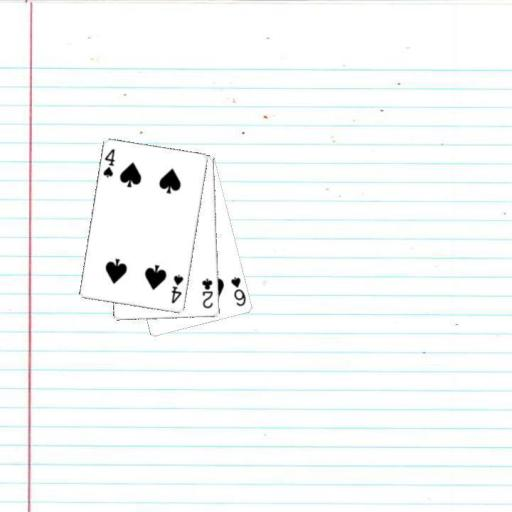card-corner: (228, 274, 248, 308), (168, 272, 185, 305), (100, 146, 117, 179), (199, 276, 215, 310)
